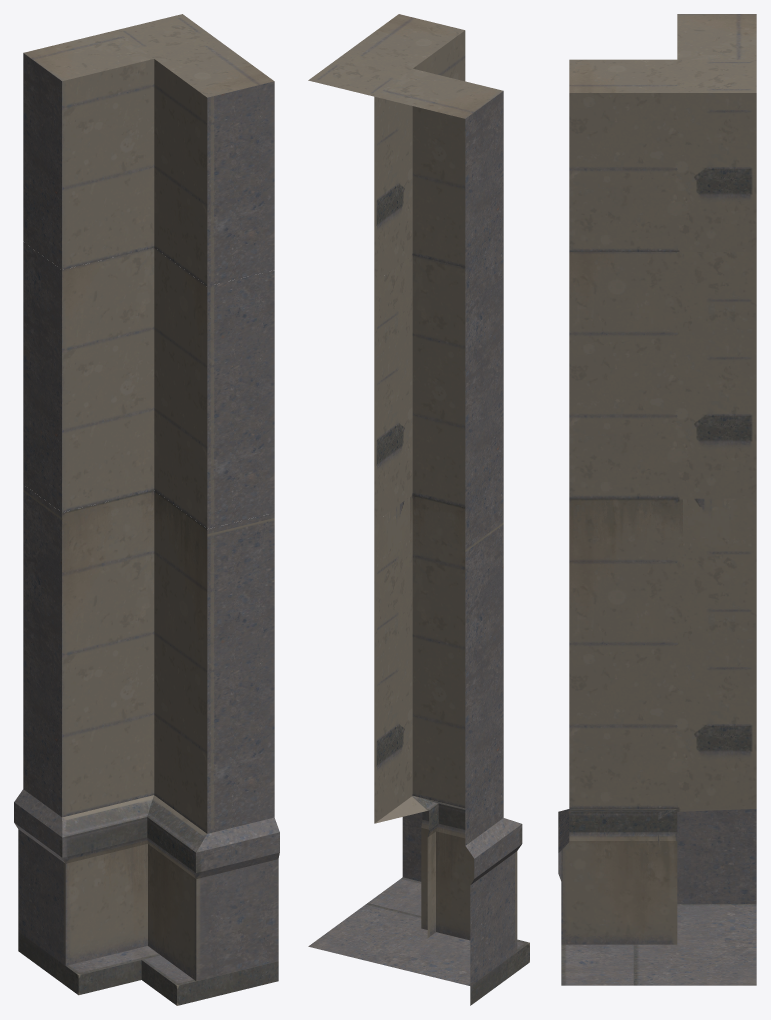
File: SM_Wall03PillarCorner.FBX
3 renders of one model, left to right at view 1: azimuth 30°, elevation 25°; view 2: azimuth 150°, elevation 25°; view 3: azimuth 270°, elevation 25°, orthographic. The views are drawn at different scales.
Parts seen in each view (by area): view 1: SM_Wall03PillarCorner; view 2: SM_Wall03PillarCorner; view 3: SM_Wall03PillarCorner.
Part boxes in pixels (x1,y1,x2,y2): SM_Wall03PillarCorner: (14,14,279,1005); SM_Wall03PillarCorner: (308,14,529,1005); SM_Wall03PillarCorner: (558,14,756,985).
Size of the model in its own units: 157 by 157 by 800.
